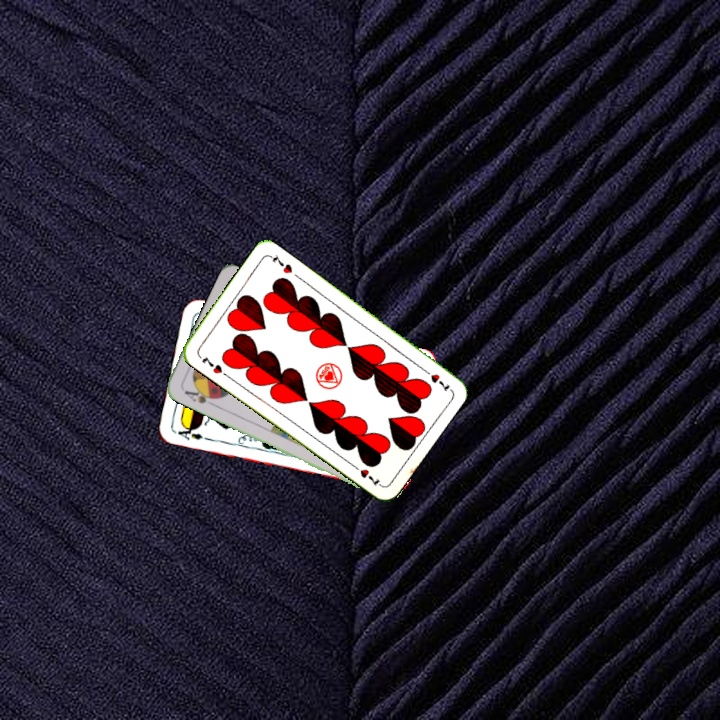EA: (170, 422, 205, 442)
H7: (418, 364, 453, 394), (198, 352, 225, 376)
SA: (180, 384, 220, 408)
